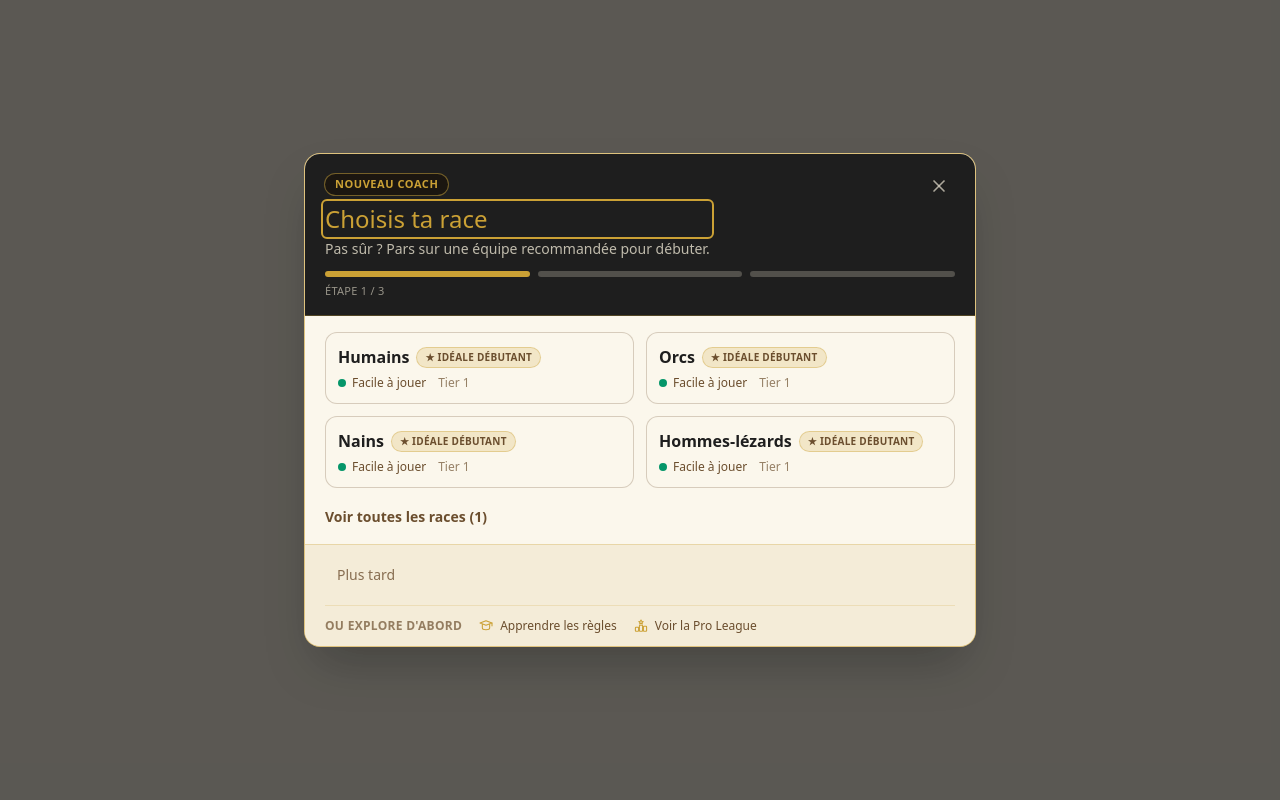
Test case: FirstTeamWizard › régénère le nom au clic sur le dé
Click the button with test id "onboarding-race-human". click: (480, 368)
box: [325, 332, 634, 404]
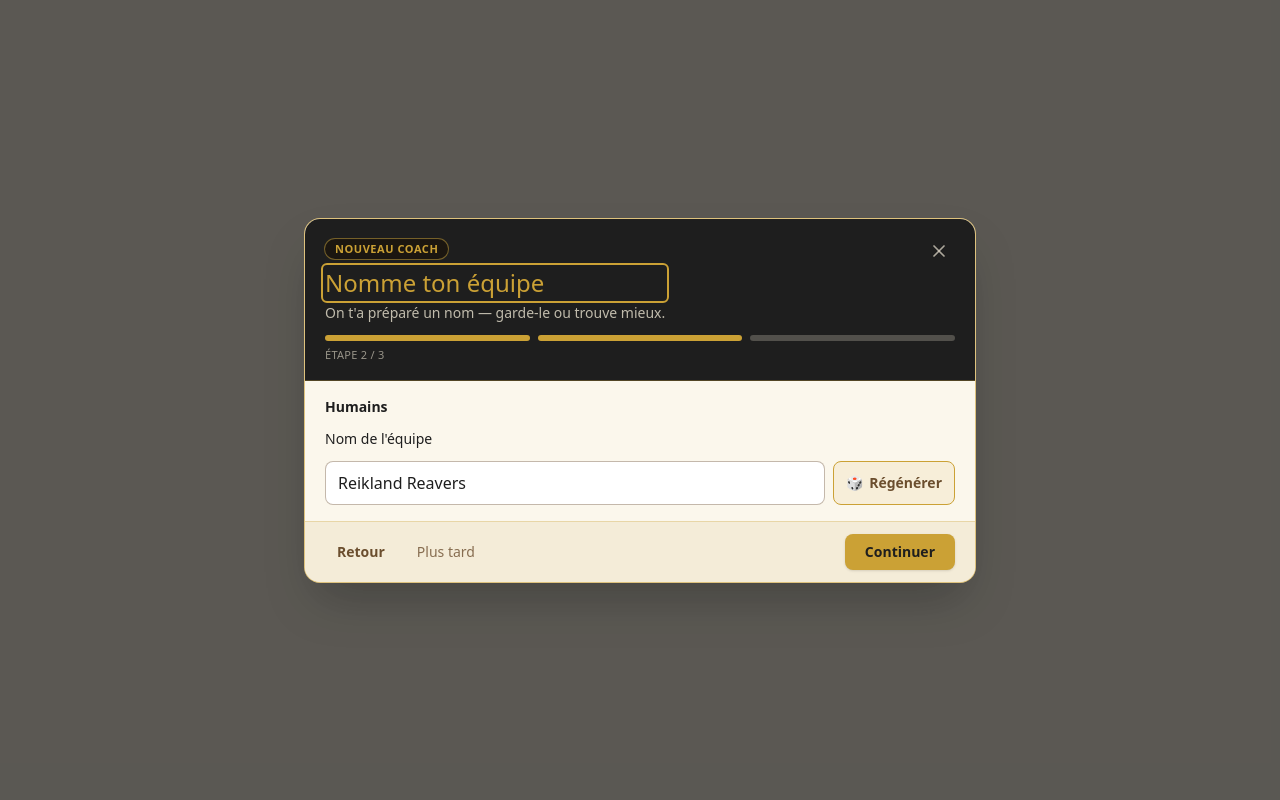
Expected: the button with test id "onboarding-regenerate" is shown
Click the button with test id "onboarding-regenerate". click: (894, 482)
box: [833, 460, 955, 504]
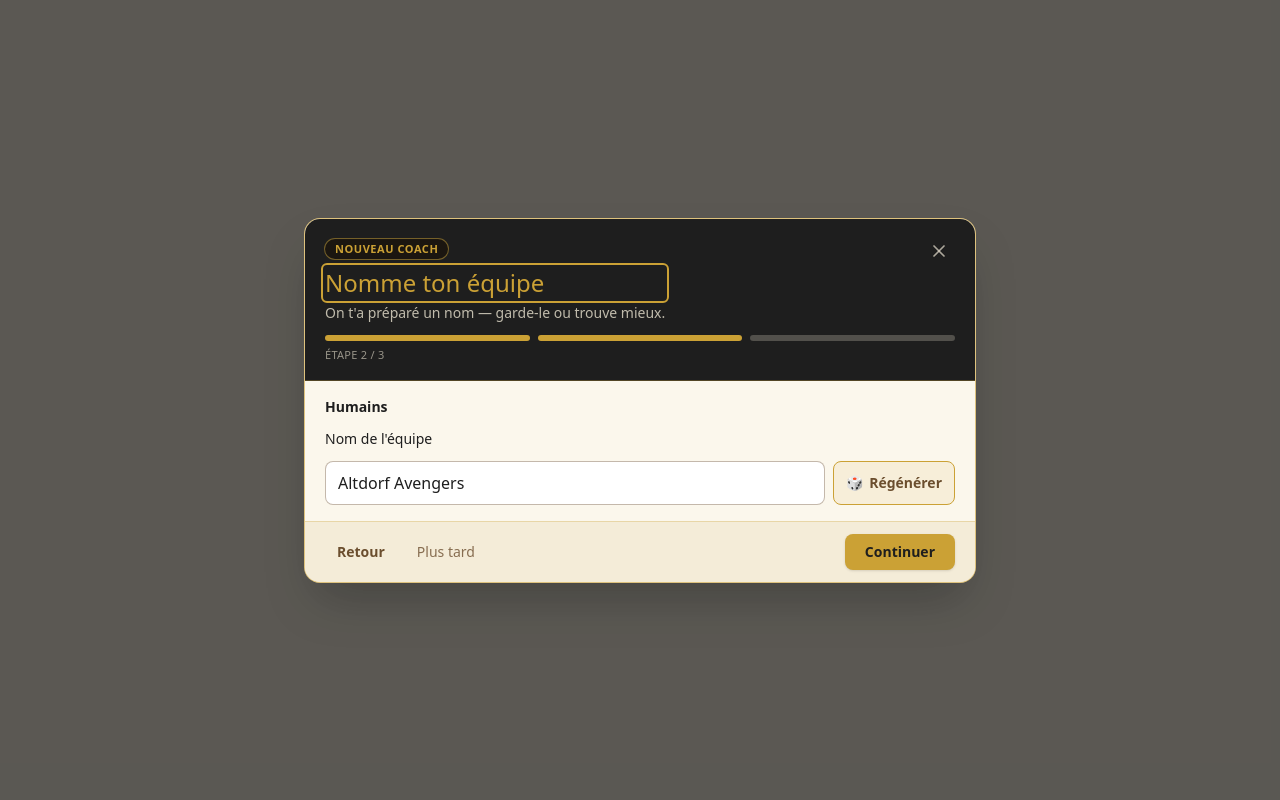
Expected: the field with test id "onboarding-name-input" holds "Altdorf Avengers", [325, 460, 825, 504]
